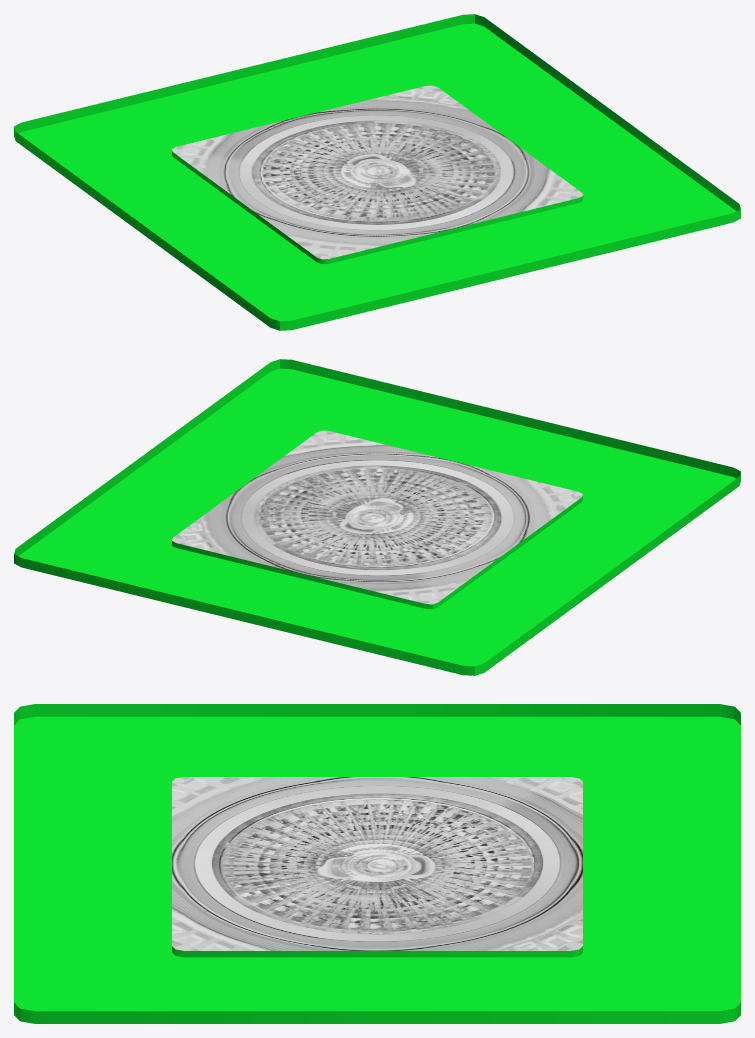
File: LightCeiling02_1.FBX
The picture shows the model from 3 angles, top to bottom: view 1: azimuth 30°, elevation 25°; view 2: azimuth 150°, elevation 25°; view 3: azimuth 270°, elevation 25°; orthographic projection. The views are drawn at different scales.
Visible parts, largest first — view 1: LightCeiling02_1; view 2: LightCeiling02_1; view 3: LightCeiling02_1.
Boxes of the visible parts, left/top/right/bottom form: LightCeiling02_1: left=14, top=14, right=740, bottom=330; LightCeiling02_1: left=14, top=359, right=740, bottom=675; LightCeiling02_1: left=14, top=704, right=740, bottom=1023.
Size of the model in its own units: 15.5 by 0.3026 by 15.5.
